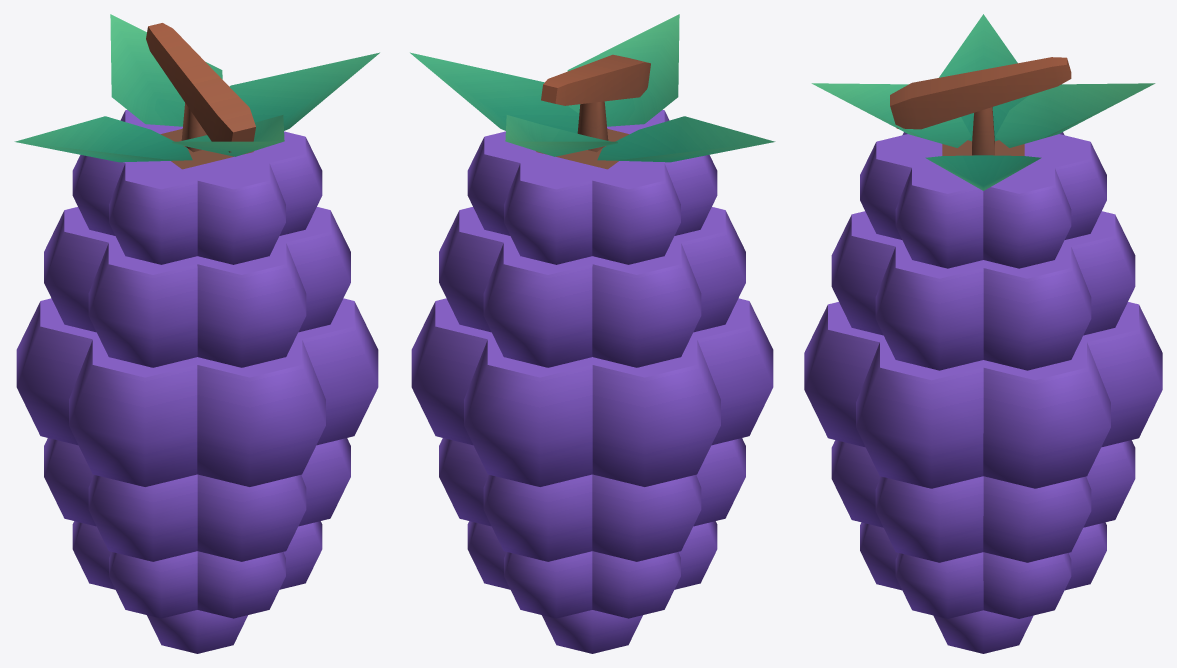
The model's file is grape-harvest.glb.
3 renders of one model, left to right at view 1: azimuth 30°, elevation 25°; view 2: azimuth 150°, elevation 25°; view 3: azimuth 270°, elevation 25°, orthographic.
Parts seen in each view (by area): view 1: grapes; view 2: grapes; view 3: grapes.
Boxes of the visible parts, x1,y1,x2,y2 form: grapes: (14,14,379,653); grapes: (410,14,775,653); grapes: (804,14,1162,653).
Bounding box in the file's own units: 0.6601 × 1 × 0.5645.
Materials: 1 (1 with a texture image).
